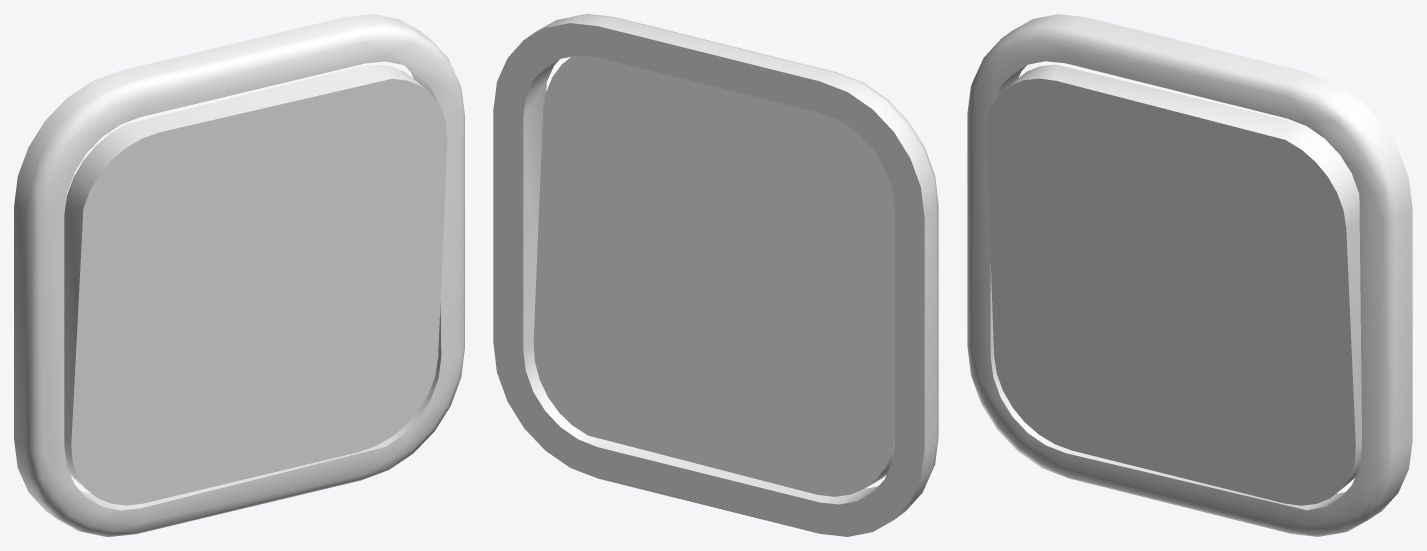
The model's file is Switch.FBX.
3 renders of one model, left to right at view 1: azimuth 30°, elevation 25°; view 2: azimuth 150°, elevation 25°; view 3: azimuth 330°, elevation 25°, orthographic.
Visible parts, largest first — view 1: switch; view 2: switch; view 3: switch.
Boxes of the visible parts, bbox=[...] form: switch: bbox=[14, 14, 464, 536]; switch: bbox=[493, 14, 938, 536]; switch: bbox=[967, 14, 1412, 536].
Bounding box in the file's own units: 9.58 × 9.55 × 1.39.
1 material, 1 textured.
